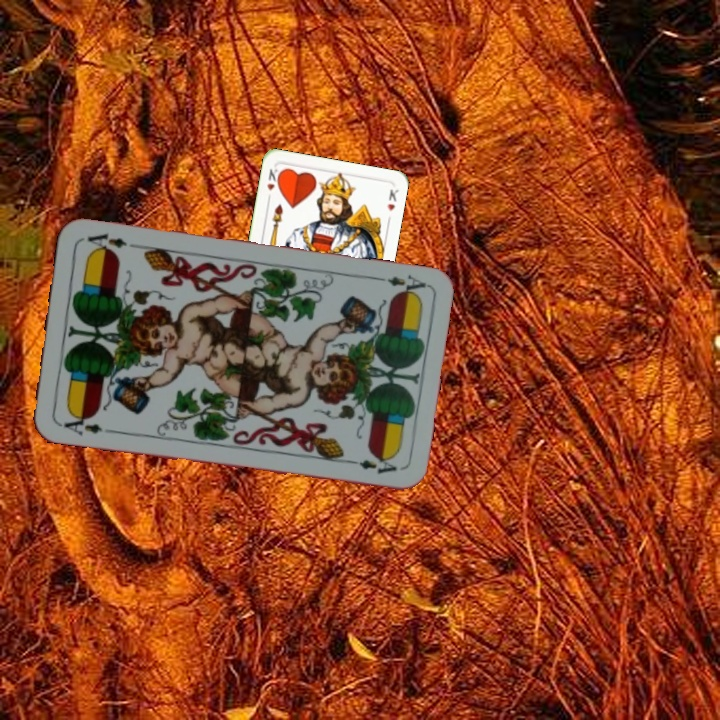EA: (55, 409, 115, 438), (369, 270, 429, 299)
HK: (263, 165, 284, 204)
